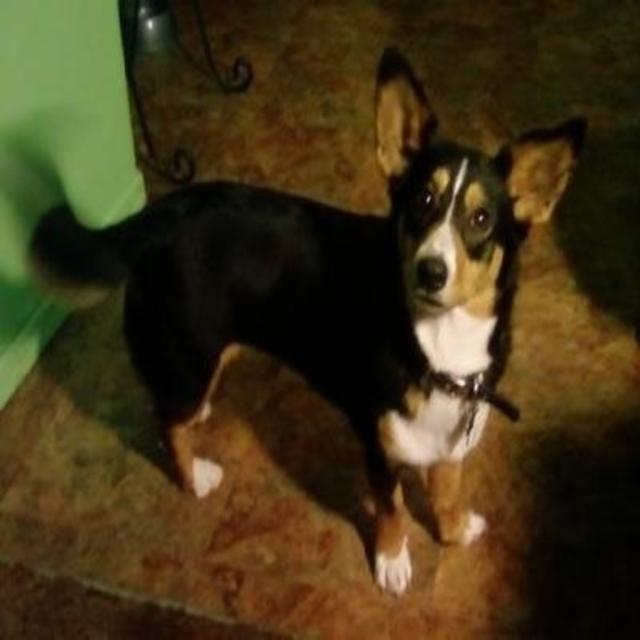Dog: (22, 36, 591, 601)
